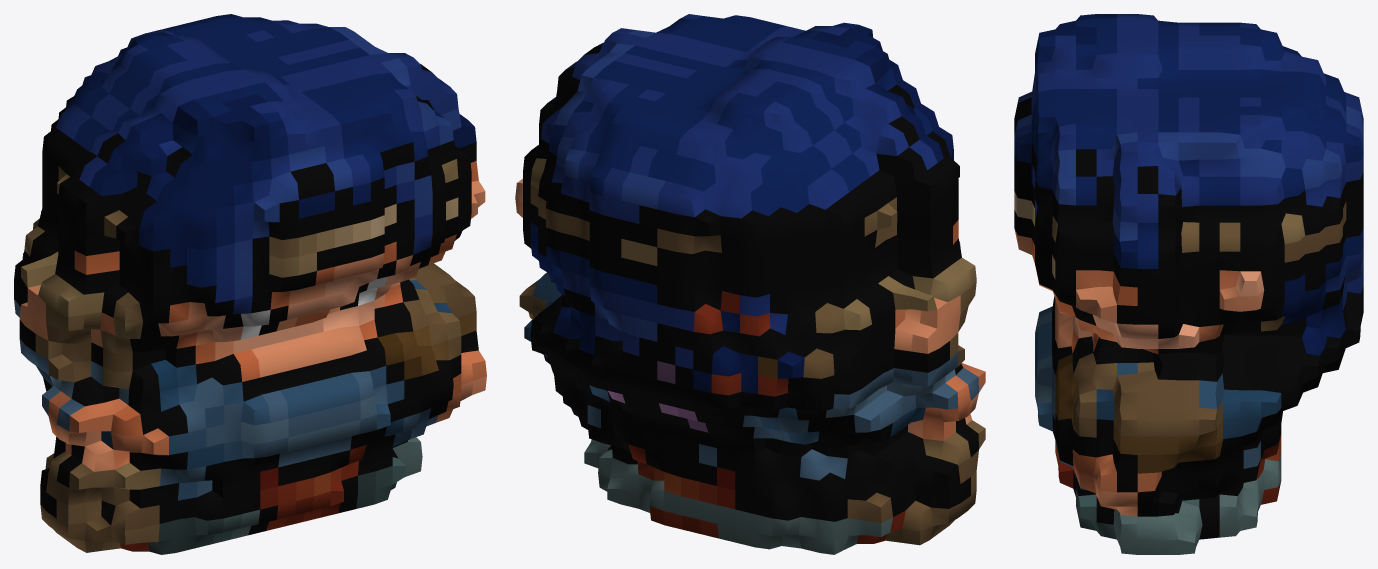
The model's file is Icon_717_02.obj.
3 views of the same model, side by side, from view 1: azimuth 30°, elevation 25°; view 2: azimuth 150°, elevation 25°; view 3: azimuth 270°, elevation 25° (orthographic).
Bounding box in the file's own units: 2.3 × 2.3 × 1.7.
1 material, 1 textured.
